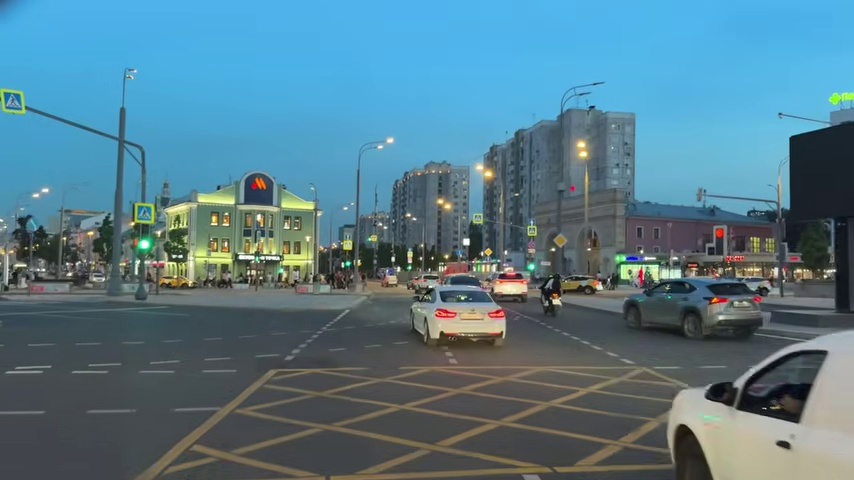acesa: (573, 139, 590, 161), (477, 164, 495, 183), (436, 197, 453, 213), (251, 176, 267, 191)
apagada: (378, 135, 395, 149)
